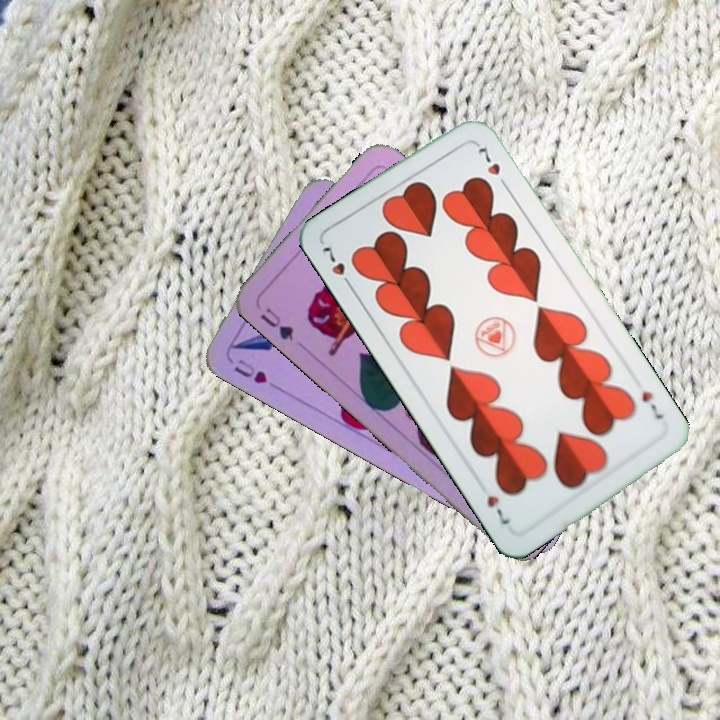GU: (256, 303, 297, 344)
H7: (317, 240, 356, 292), (637, 387, 666, 422)
HU: (229, 355, 270, 387)
